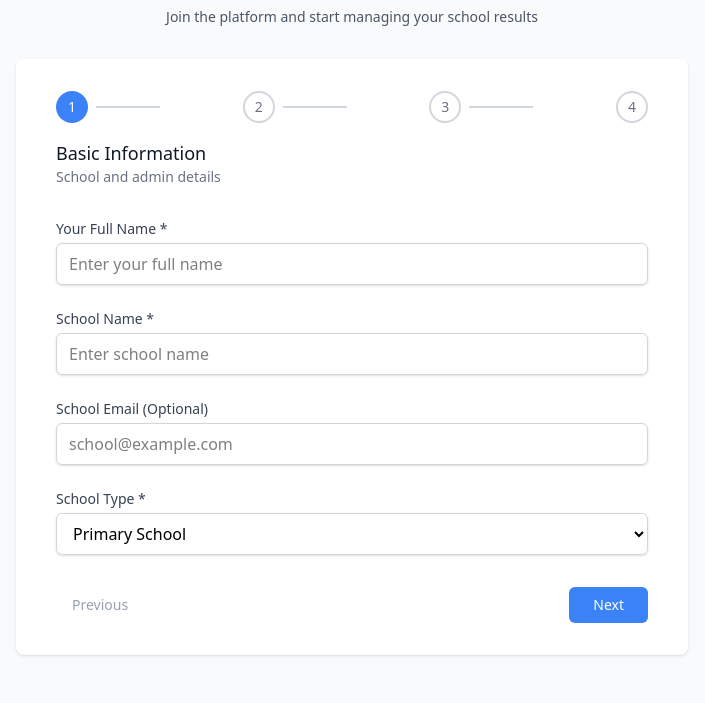
SchoolRegister › validates required fields on step 1
(page scrolled)
Click the button "Next" at (609, 605), box [569,587,648,623]
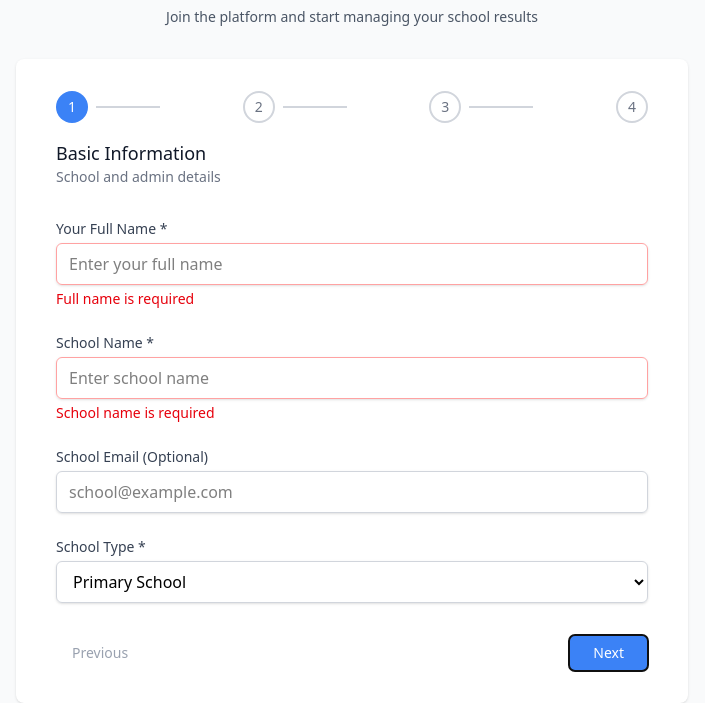
Expected: the text "Full name is required" is shown, [56,289,194,308]
Expected: the text "School name is required" is shown, [56,403,215,422]
